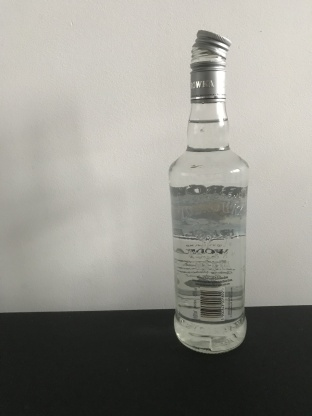nakretka: (188, 27, 232, 103)
